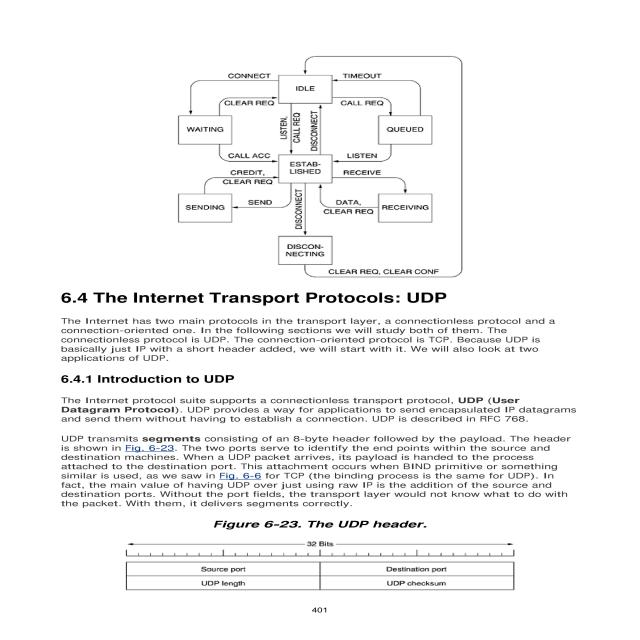diagram: (147, 41, 518, 281), (90, 508, 538, 620)
